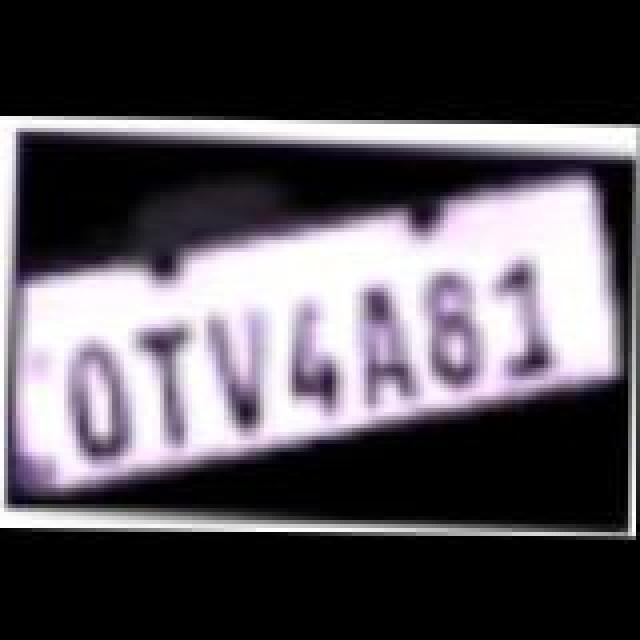1: (468, 246, 568, 374)
4: (262, 292, 366, 420)
8: (398, 262, 502, 390)
A: (328, 274, 436, 406)
O: (42, 334, 154, 462)
T: (118, 312, 230, 444)
V: (190, 300, 302, 432)
